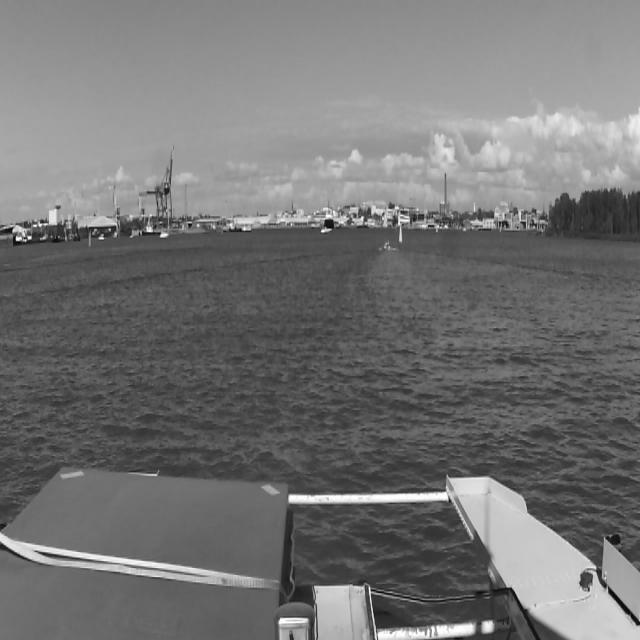buoy: (397, 222, 403, 245), (87, 228, 93, 250), (435, 222, 439, 235)
ship: (311, 206, 349, 226), (324, 199, 334, 233), (380, 237, 392, 254), (320, 224, 332, 236)
